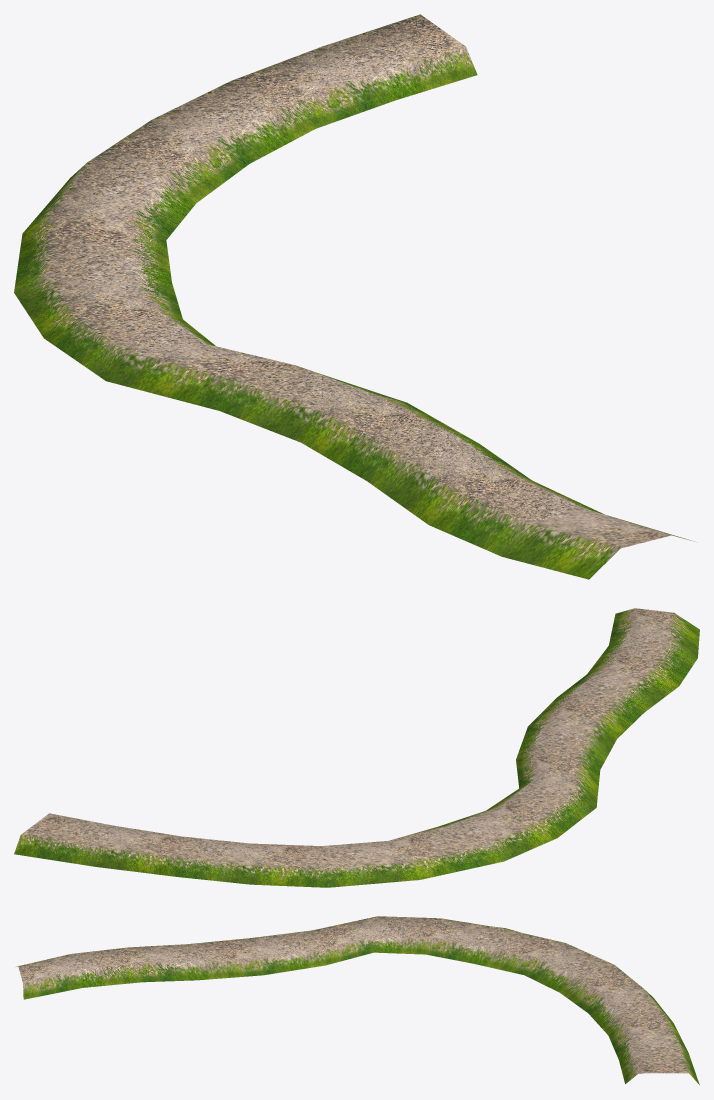
The picture shows the model from 3 angles, top to bottom: view 1: azimuth 30°, elevation 25°; view 2: azimuth 150°, elevation 25°; view 3: azimuth 270°, elevation 25°; orthographic projection. The views are drawn at different scales.
Visible parts, largest first — view 1: rd_ro1; view 2: rd_ro1; view 3: rd_ro1.
Boxes of the visible parts, x1=… form: rd_ro1: x1=14, y1=14, x2=694, y2=579; rd_ro1: x1=14, y1=608, x2=699, y2=887; rd_ro1: x1=16, y1=916, x2=699, y2=1085.
Bounding box in the file's own units: 19.91 × 0.8002 × 35.21.
1 material, 1 textured.
